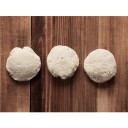idly: (7, 46, 41, 81), (85, 48, 117, 82), (48, 44, 78, 79)
